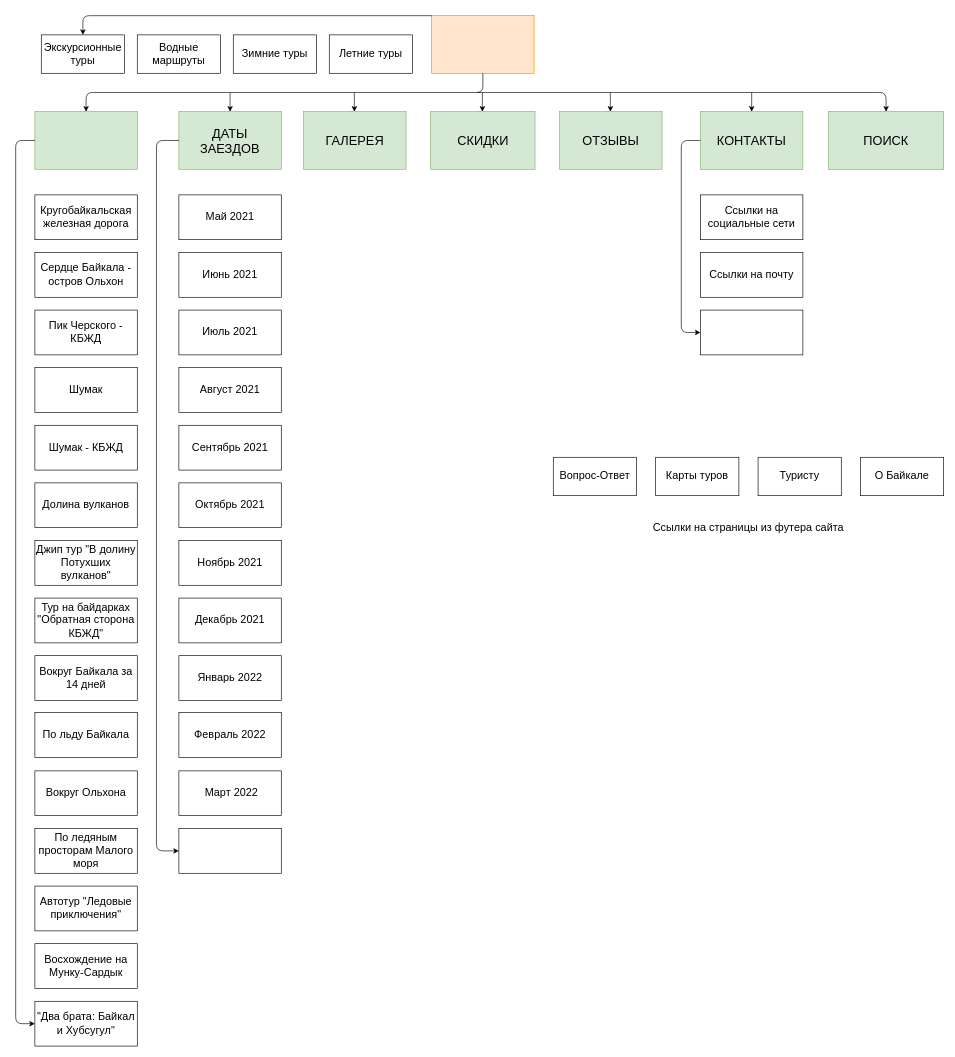
Image size: 955x1057. Some labels were removed from this diagram. Here are the shapes that lost their labels. From the top down, the centre of each, then its label:
At (x=482, y=44): "ГЛАВНАЯ СТРАНИЦА".
At (x=85, y=140): "ТУРЫ".
At (x=751, y=332): "Ссылки на аккаунты сотрудничества".
At (x=229, y=850): "Апрель 2022".
